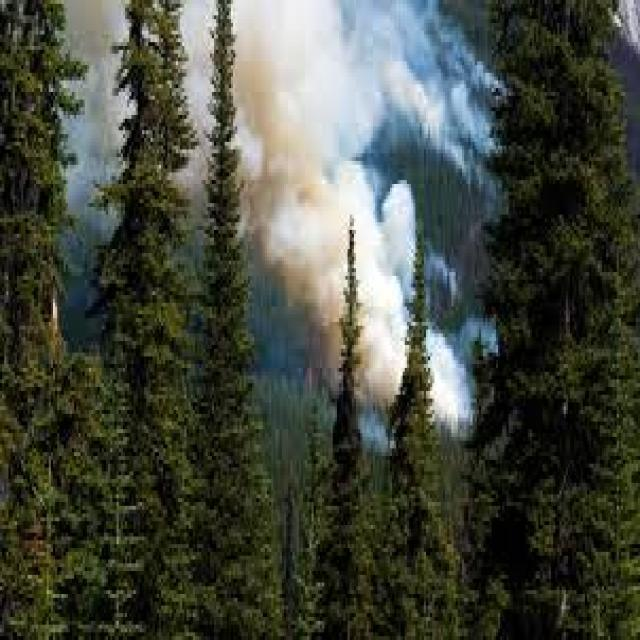Smoke: (252, 0, 512, 436), (240, 0, 490, 182)
